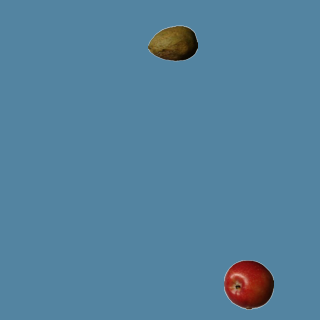Apple Braeburn: (223, 259, 273, 309)
Papaya: (147, 18, 197, 68)
